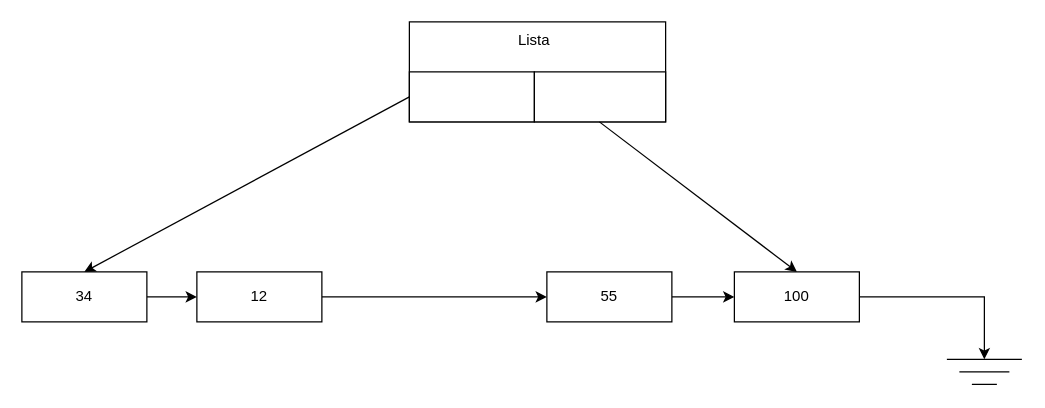
Image size: 1045x408. Some labels were removed from this diagram. Here are the shapes that lost their labels. From the top down, the box of each, then its label:
(408, 71, 534, 122): Início
(533, 71, 666, 122): Fim
